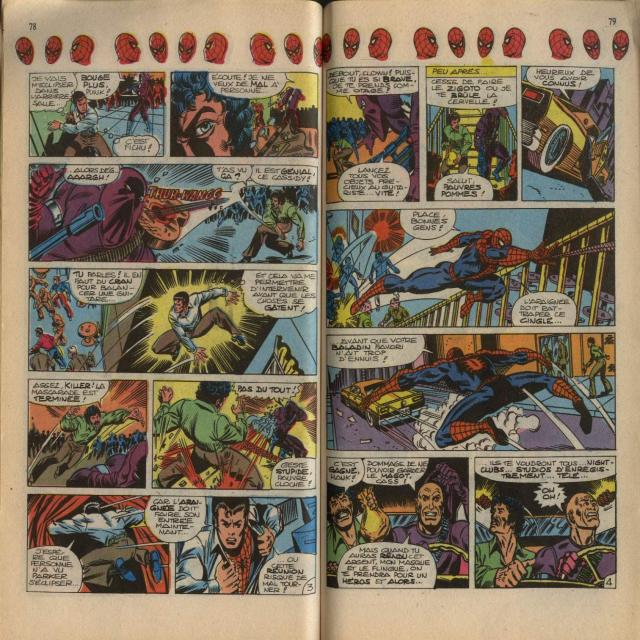comic_panel: (324, 331, 616, 453), (325, 207, 615, 327), (28, 266, 318, 377), (28, 162, 318, 266), (473, 454, 618, 592), (325, 454, 471, 590), (151, 377, 317, 491), (26, 491, 172, 597), (173, 494, 317, 598), (26, 377, 148, 490), (324, 65, 422, 205), (169, 70, 319, 160), (520, 64, 616, 204), (425, 64, 518, 204), (28, 71, 166, 158)
